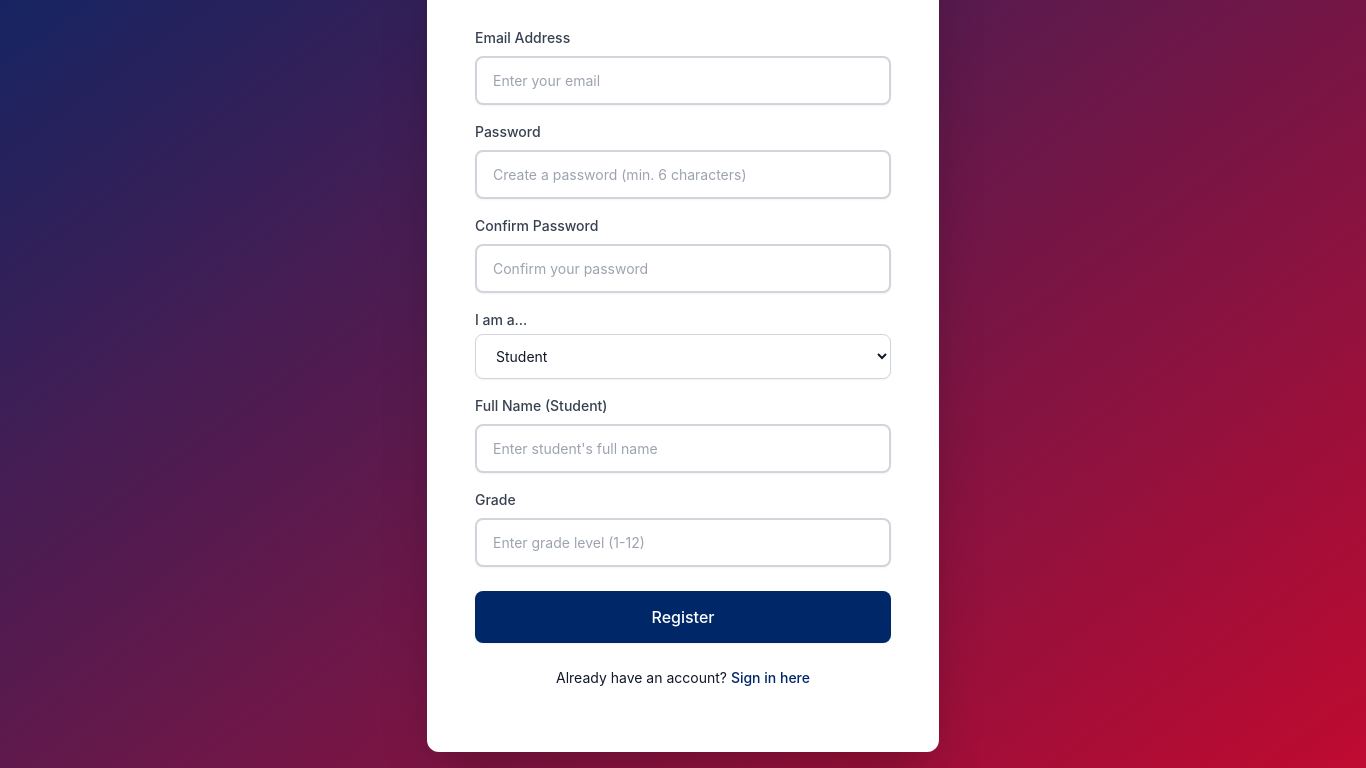
Scenario: RegisterScreen Component › Form Validation › validates required fields
(page scrolled)
Click the button "Register" at (683, 616), box left=475, top=590, right=891, bottom=642
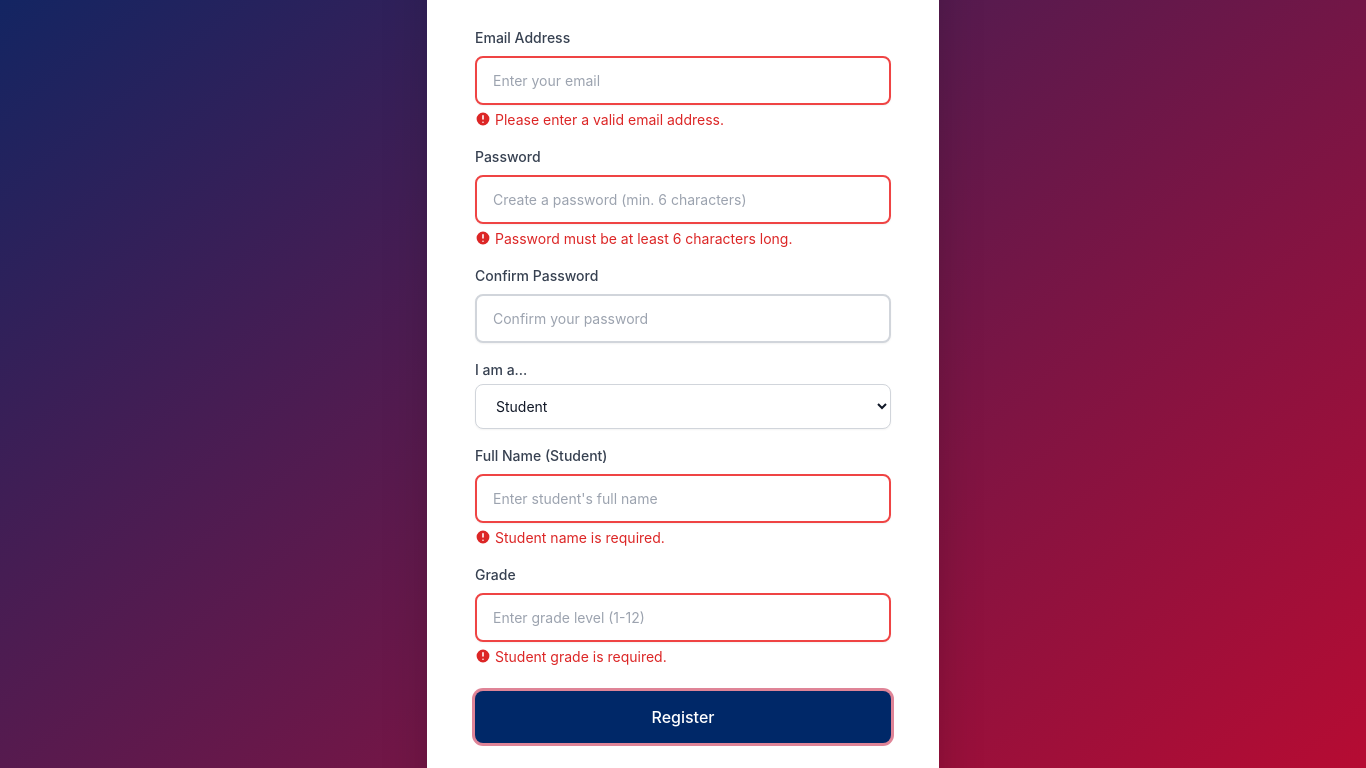
Check: the text "Please enter a valid email address." is shown, box left=475, top=110, right=724, bottom=128
